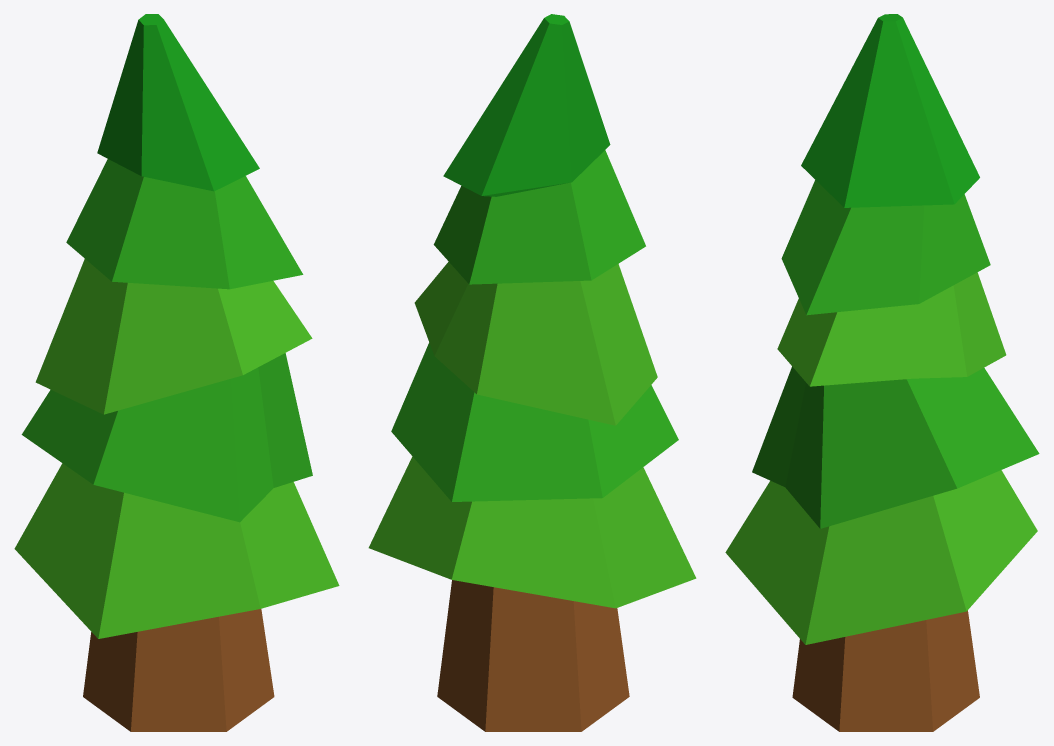
Rendered from Tree 3.3.fbx.
The picture shows the model from 3 angles, left to right: view 1: azimuth 30°, elevation 25°; view 2: azimuth 150°, elevation 25°; view 3: azimuth 270°, elevation 25°; orthographic projection. The views are drawn at different scales.
Parts seen in each view (by area): view 1: Cylinder.001; view 2: Cylinder.001; view 3: Cylinder.001.
Part boxes in pixels (x1=…): Cylinder.001: x1=14, y1=14, x2=339, y2=731; Cylinder.001: x1=368, y1=14, x2=696, y2=731; Cylinder.001: x1=725, y1=14, x2=1039, y2=731.
Size of the model in its own units: 112 by 297 by 126.
